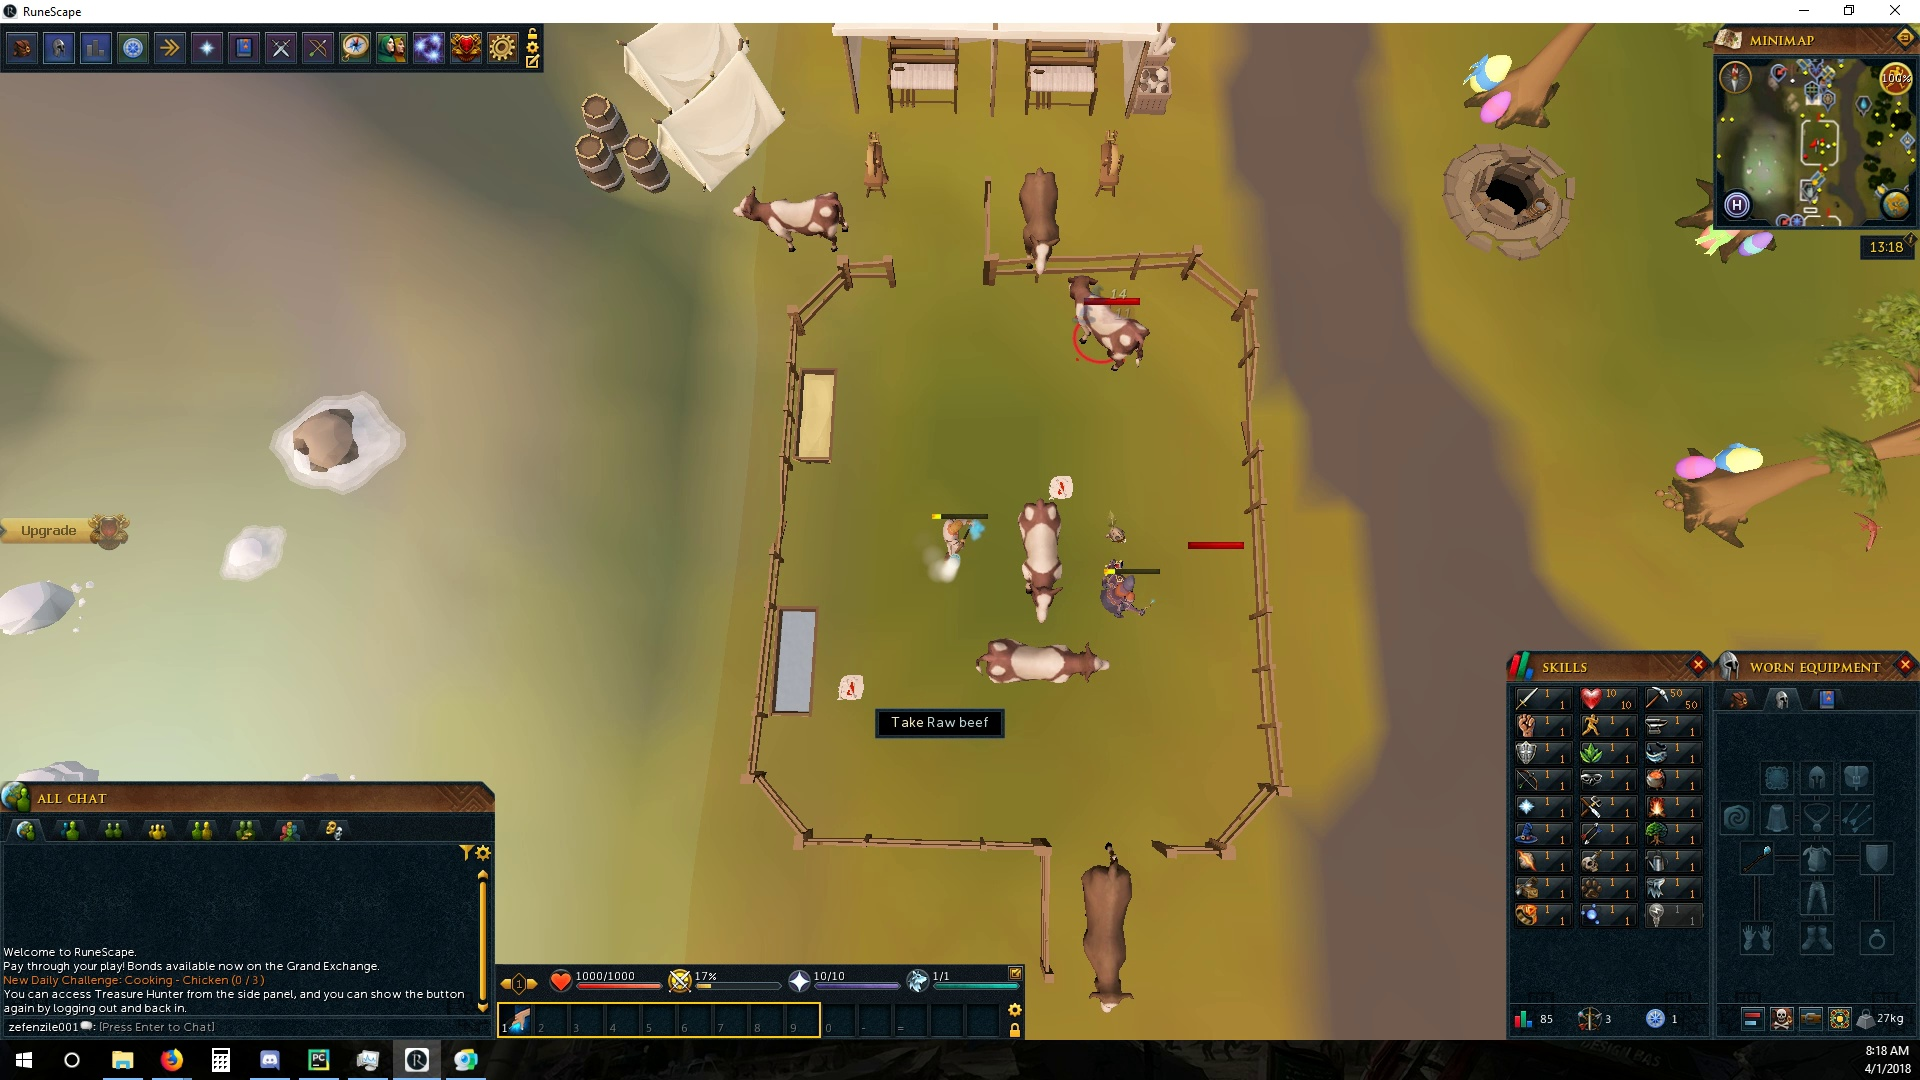cow: (1073, 837, 1145, 1015), (1062, 270, 1153, 371), (733, 182, 852, 258), (971, 634, 1117, 692), (1015, 496, 1071, 624), (1015, 164, 1069, 278)
cow_drop: (833, 670, 869, 703), (1048, 469, 1079, 501)
